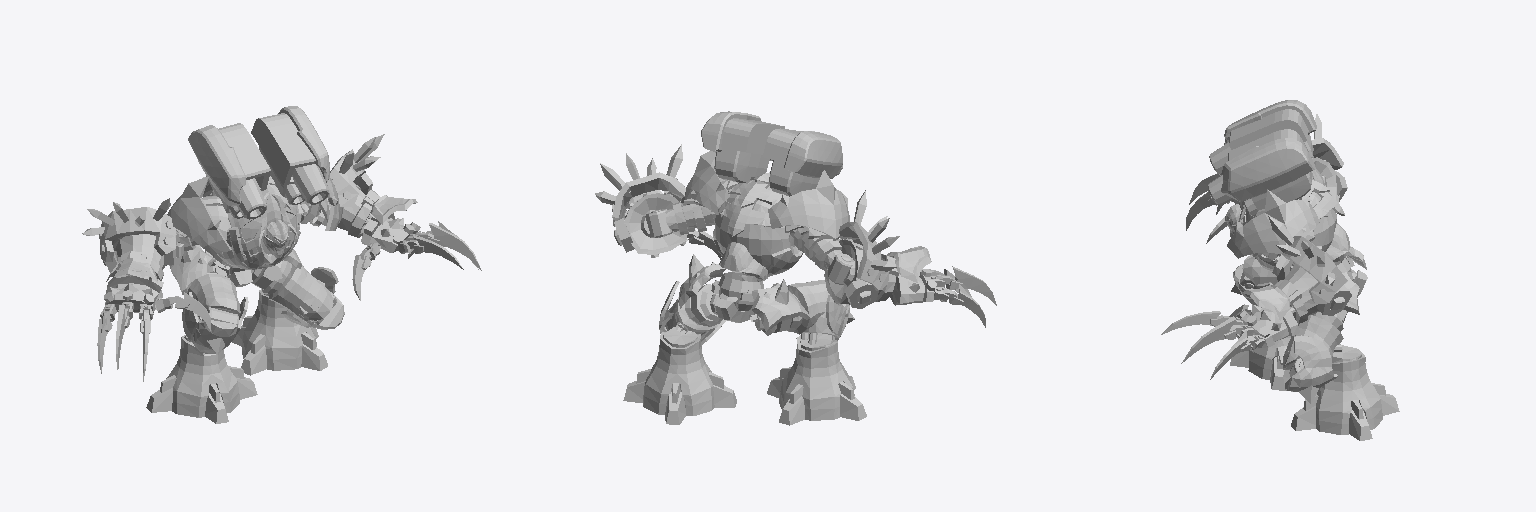
The model's file is Attack02 (56).obj.
3 renders of one model, left to right at view 1: azimuth 30°, elevation 25°; view 2: azimuth 150°, elevation 25°; view 3: azimuth 270°, elevation 25°, orthographic.
Visible parts, largest first — view 1: ironreaver03, ironreaver03_canon, Object003, Object001, Object002, Object004; view 2: ironreaver03, ironreaver03_canon, Object003, Object001, Object002, ironreaver02; view 3: ironreaver03, ironreaver03_canon, Object003, Object002, Object001.
Boxes of the visible parts, x1=… form: ironreaver03: x1=106, y1=176, x2=417, y2=423; ironreaver03_canon: x1=188, y1=106, x2=329, y2=219; Object003: x1=97, y1=213, x2=481, y2=381; Object001: x1=82, y1=198, x2=183, y2=272; Object002: x1=322, y1=134, x2=384, y2=225; Object004: x1=259, y1=192, x2=297, y2=257; ironreaver03: x1=623, y1=151, x2=931, y2=425; ironreaver03_canon: x1=701, y1=111, x2=842, y2=196; Object003: x1=625, y1=178, x2=996, y2=327; Object001: x1=836, y1=190, x2=899, y2=308; Object002: x1=595, y1=144, x2=694, y2=252; ironreaver02: x1=711, y1=266, x2=768, y2=310; ironreaver03: x1=1227, y1=156, x2=1399, y2=440; ironreaver03_canon: x1=1208, y1=100, x2=1316, y2=216; Object003: x1=1161, y1=174, x2=1299, y2=379; Object002: x1=1268, y1=216, x2=1351, y2=315; Object001: x1=1309, y1=114, x2=1347, y2=201.
Bounding box in the file's own units: 321 × 222 × 177.